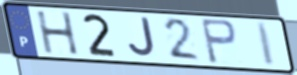2: (163, 16, 202, 64), (82, 13, 117, 59)
H: (34, 10, 82, 56)
I: (255, 21, 278, 69)
J: (126, 16, 159, 60)
P: (198, 17, 240, 66)
